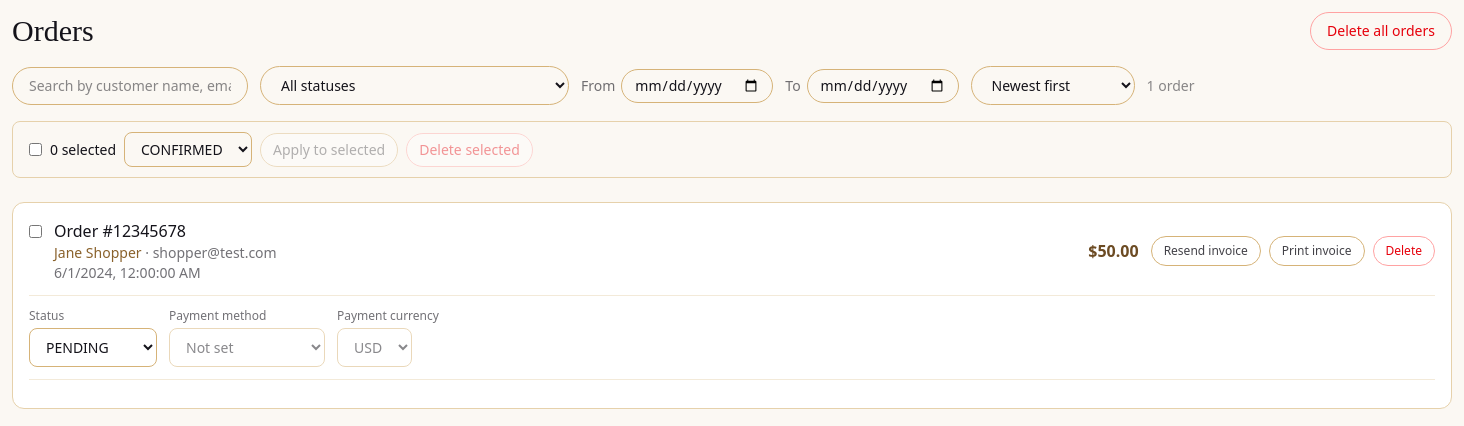
Test: AdminOrders › enables the payment method/currency selects only once Status is staged to CONFIRMED on a not-yet-confirmed order
Expected: the link "Jane Shopper" is shown, 54,243 -> 142,262
Expected: the dropdown labelled "Payment method" is disabled, 169,328 -> 325,367
Step 1. Select "CONFIRMED" in the dropdown labelled "Status" → (93, 348), box 29,328 -> 157,367
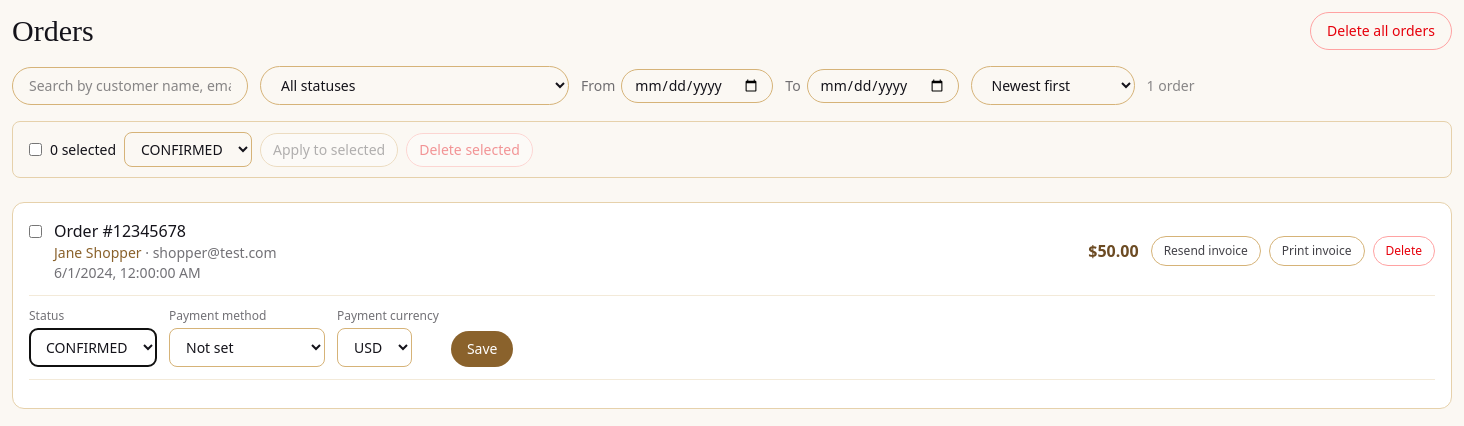
Now the dropdown labelled "Payment method" is enabled, box 169,328 -> 325,367
Now the dropdown labelled "Payment currency" is enabled, box 337,328 -> 412,367
